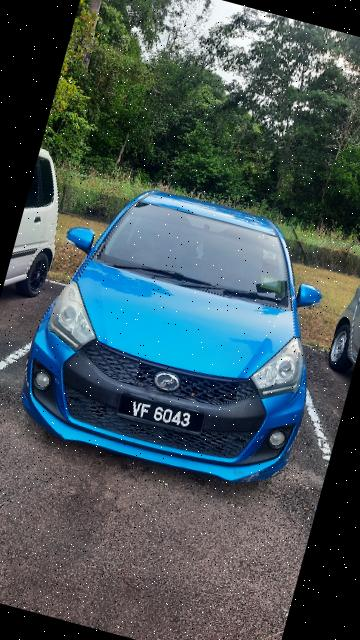License_Plate: (112, 388, 210, 442)
car: (5, 166, 353, 509)
